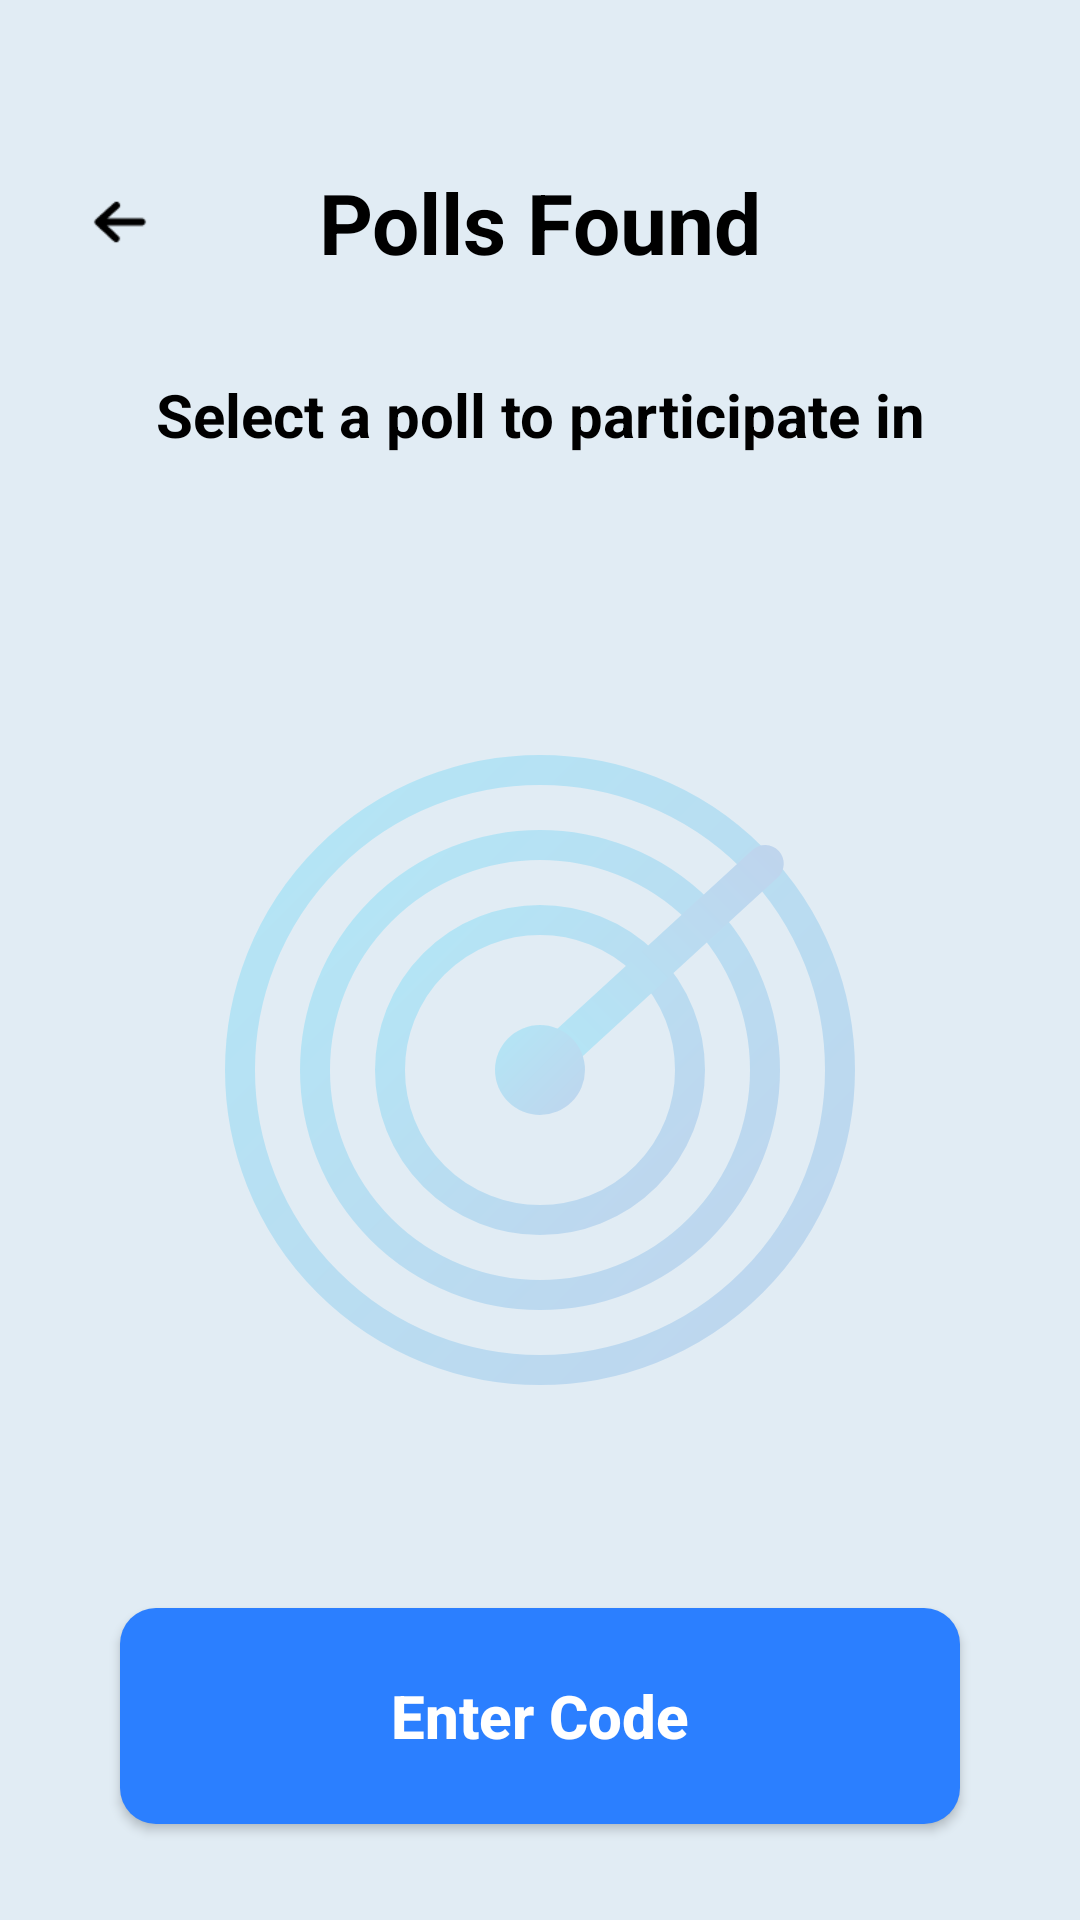

Icon bounding boxes for this 1080x1920 phone screenshot, format (x1, y1, x2, y2):
back arrow: (94, 201, 146, 243)
